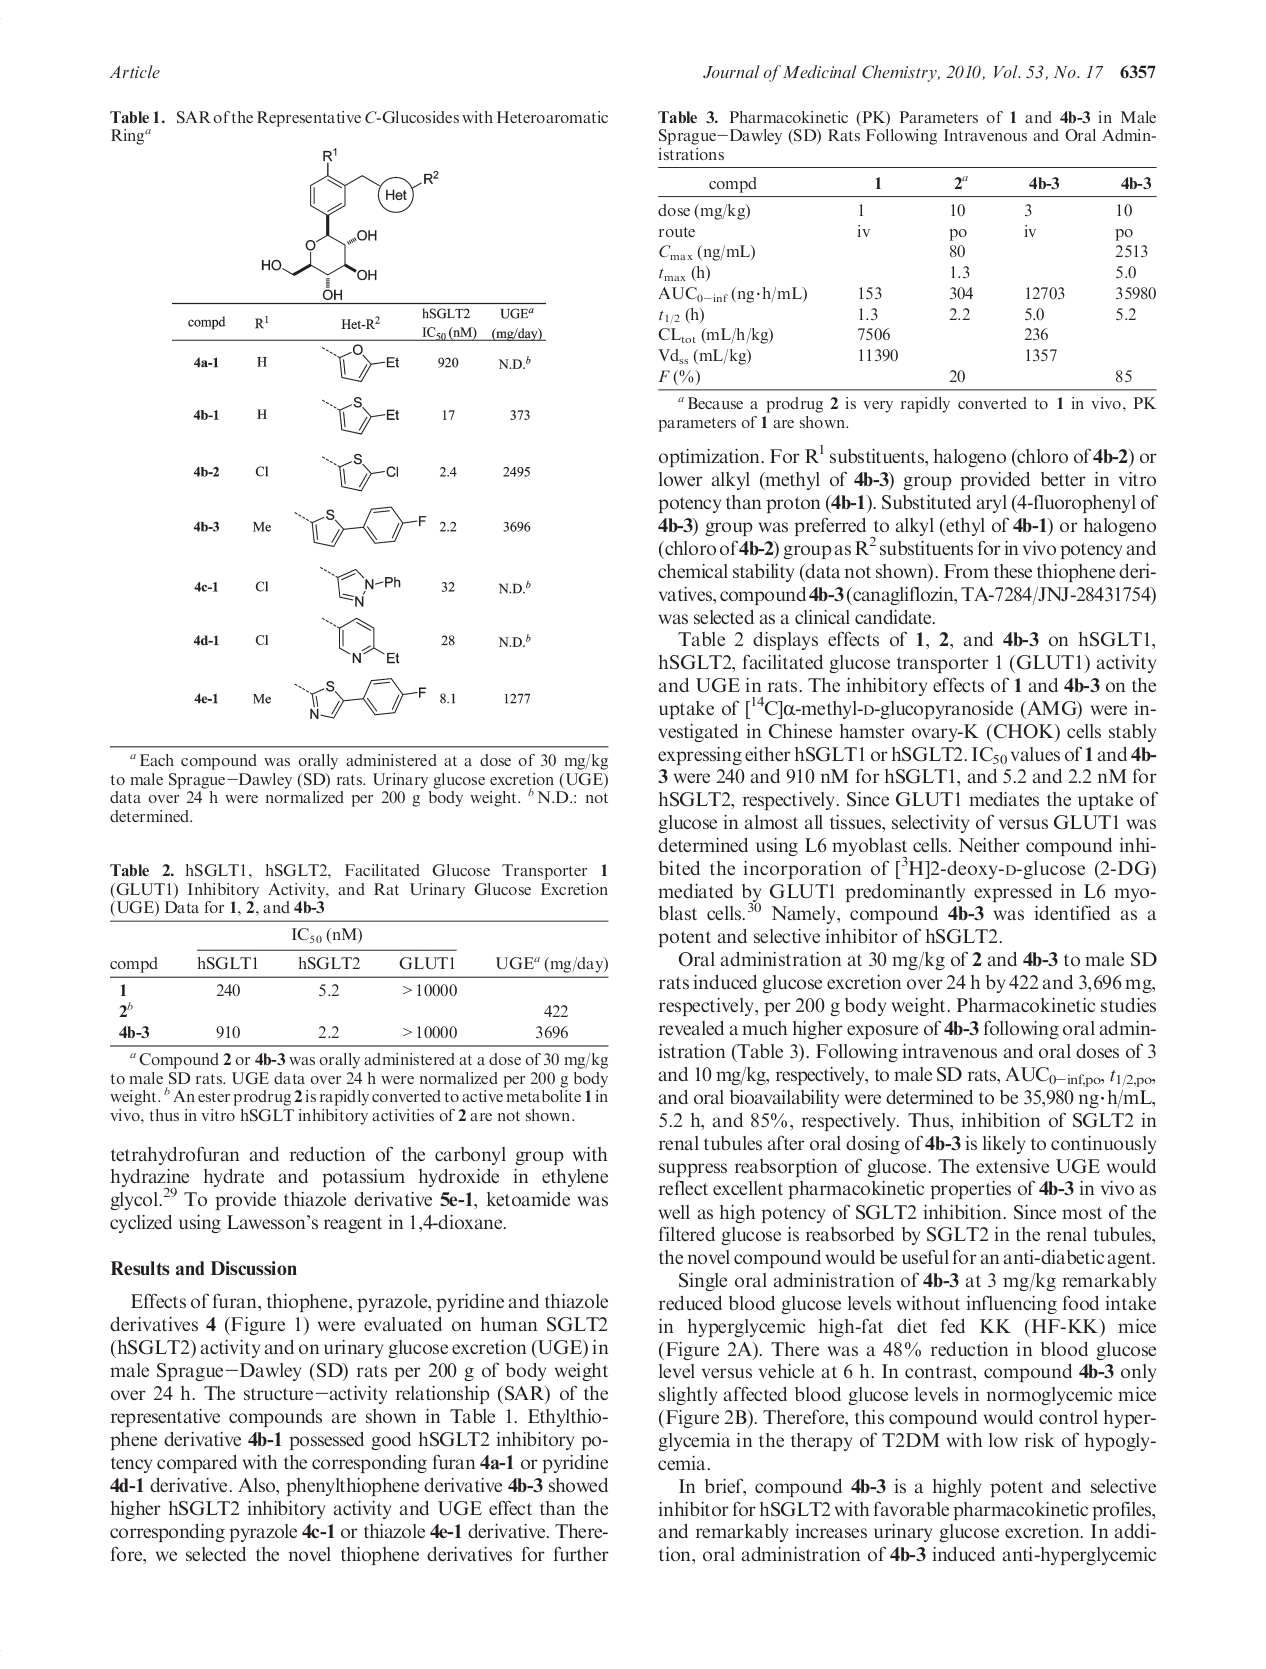exist_molecular: (258, 149, 432, 301), (294, 676, 428, 725), (293, 505, 430, 549), (320, 613, 402, 669), (320, 449, 406, 493), (319, 394, 402, 439), (320, 344, 403, 384), (319, 567, 402, 606)
